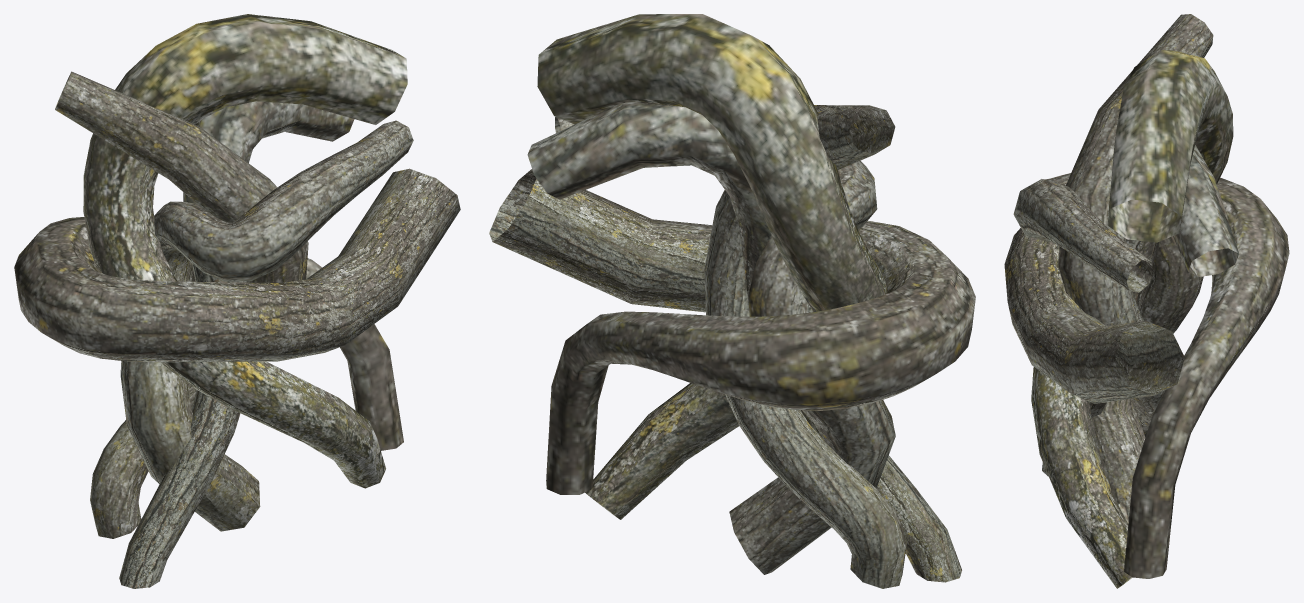
File: Tree_roots2.fbx
3 renders of one model, left to right at view 1: azimuth 30°, elevation 25°; view 2: azimuth 150°, elevation 25°; view 3: azimuth 270°, elevation 25°, orthographic. The views are drawn at different scales.
Visible parts, largest first — view 1: NurbsPath.003; view 2: NurbsPath.003; view 3: NurbsPath.003.
Boxes of the visible parts, x1,y1,x2,y2 form: NurbsPath.003: (14,14,460,588); NurbsPath.003: (489,14,975,588); NurbsPath.003: (1004,14,1289,588).
Bounding box in the file's own units: 327 × 369 × 197.
Materials: 1 (1 with a texture image).
